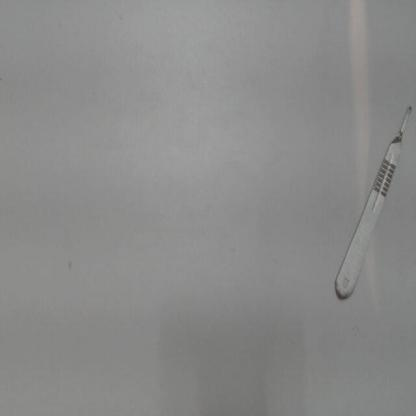No.3 BP Handle: (330, 92, 415, 312)
